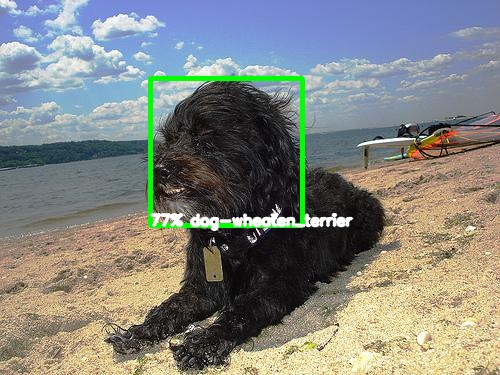dog-havanese: (148, 83, 289, 214)
